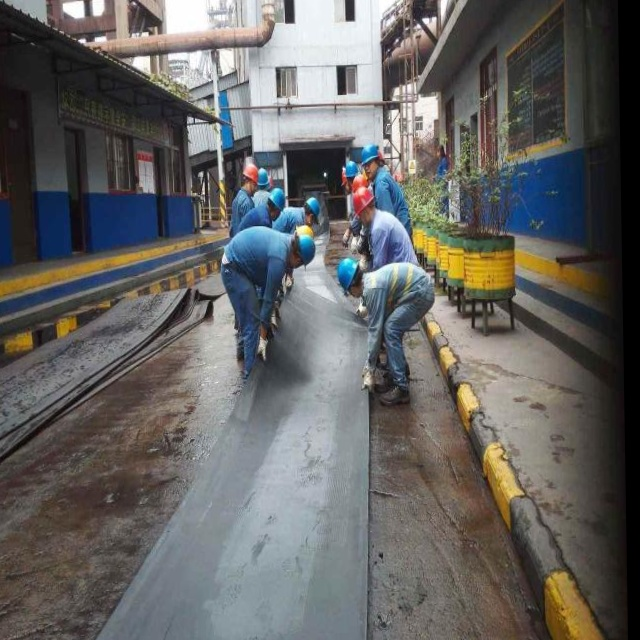Con_Casco: (336, 259, 363, 295), (362, 143, 381, 178)
